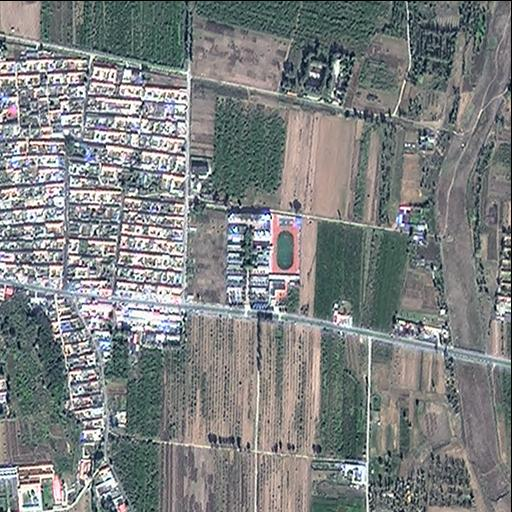school: (224, 208, 300, 317)
